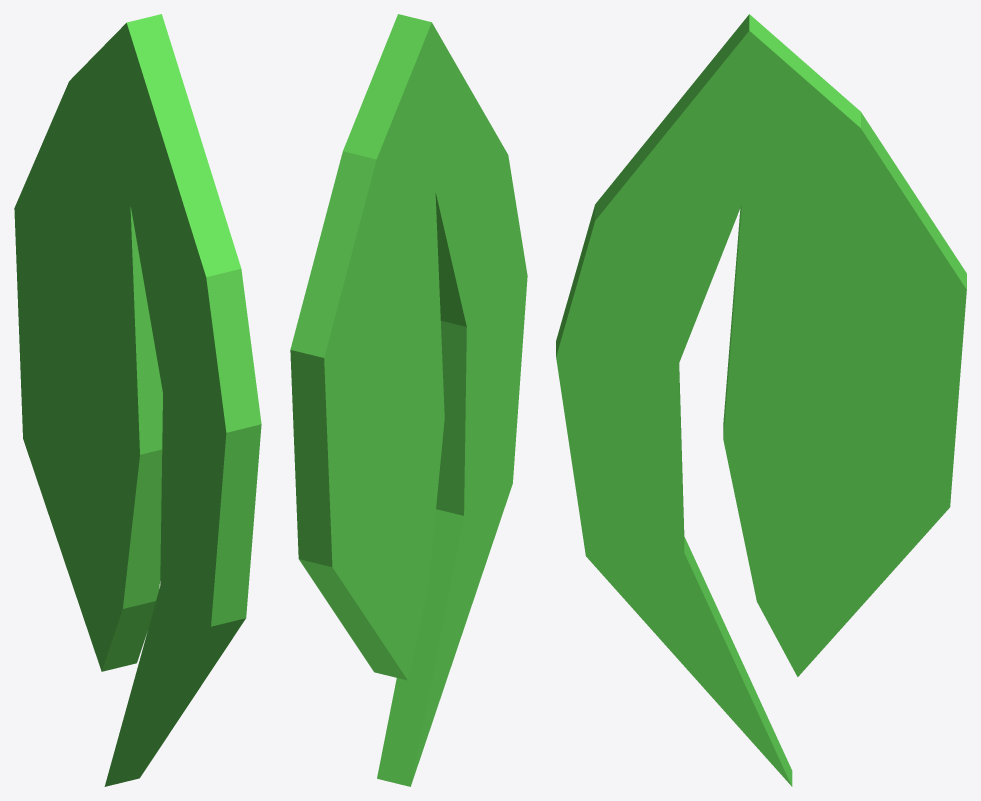
Rendered from 3d_leaf_0.fbx.
3 views of the same model, side by side, from view 1: azimuth 30°, elevation 25°; view 2: azimuth 150°, elevation 25°; view 3: azimuth 270°, elevation 25° (orthographic). The views are drawn at different scales.
Visible parts, largest first — view 1: Cylinder.001; view 2: Cylinder.001; view 3: Cylinder.001.
Part boxes in pixels (x1,y1,x2,y2): Cylinder.001: (14, 14, 261, 786); Cylinder.001: (290, 14, 527, 786); Cylinder.001: (556, 14, 966, 786).
Size of the model in its own units: 7.39 by 157 by 77.14.
